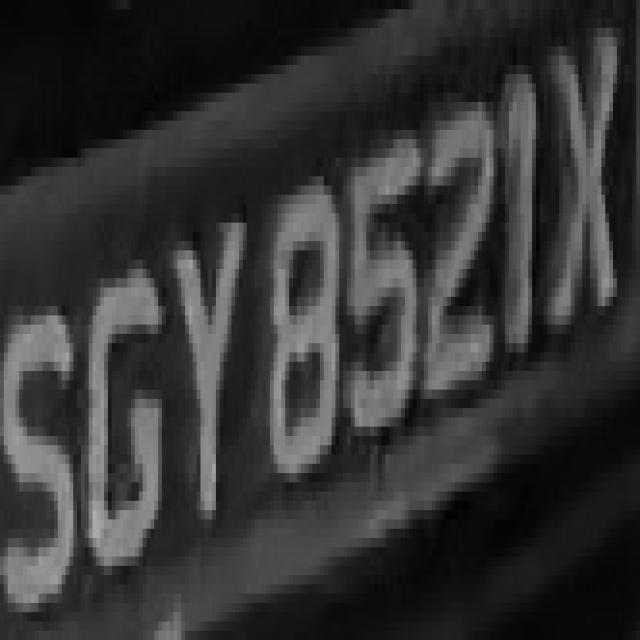1: (501, 65, 544, 389)
2: (413, 84, 501, 408)
5: (332, 102, 420, 455)
8: (266, 148, 339, 501)
G: (73, 250, 170, 556)
S: (4, 269, 85, 631)
X: (555, 19, 625, 352)
Y: (158, 213, 251, 538)
